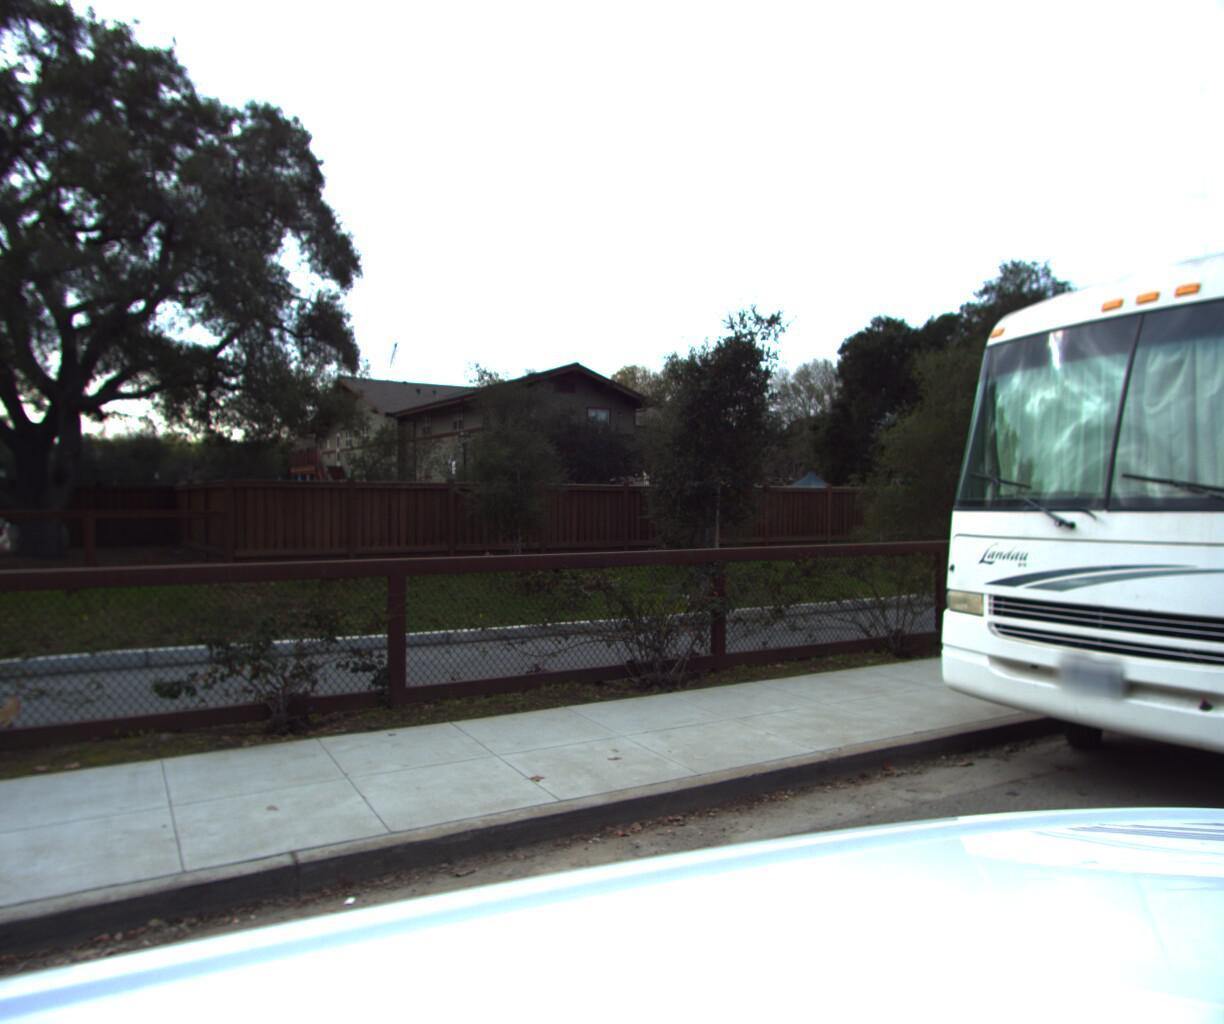other_vehicle: (874, 0, 1224, 923)
